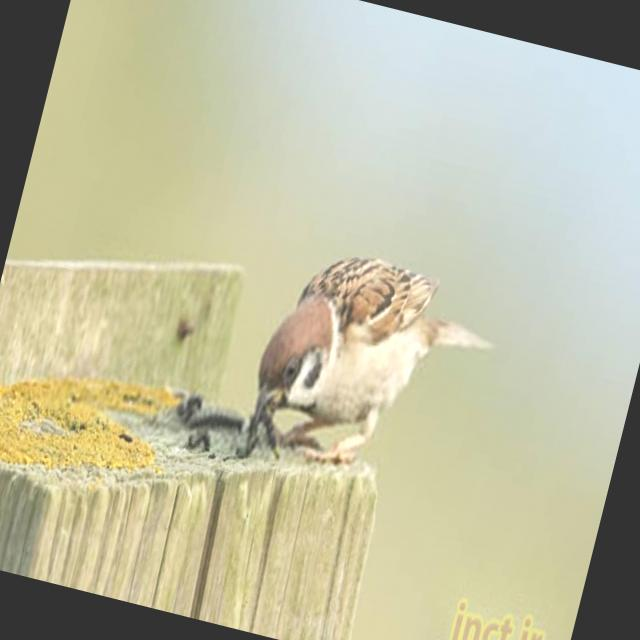bird: (232, 227, 516, 515)
